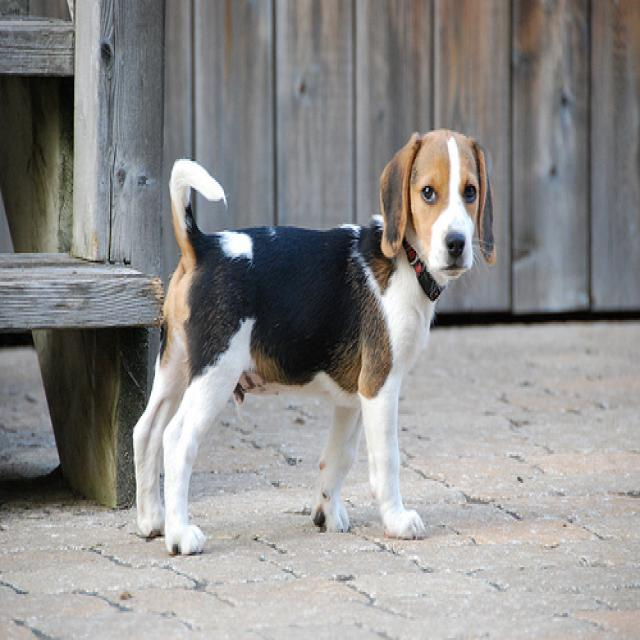dog-beagle: (124, 111, 504, 563)
